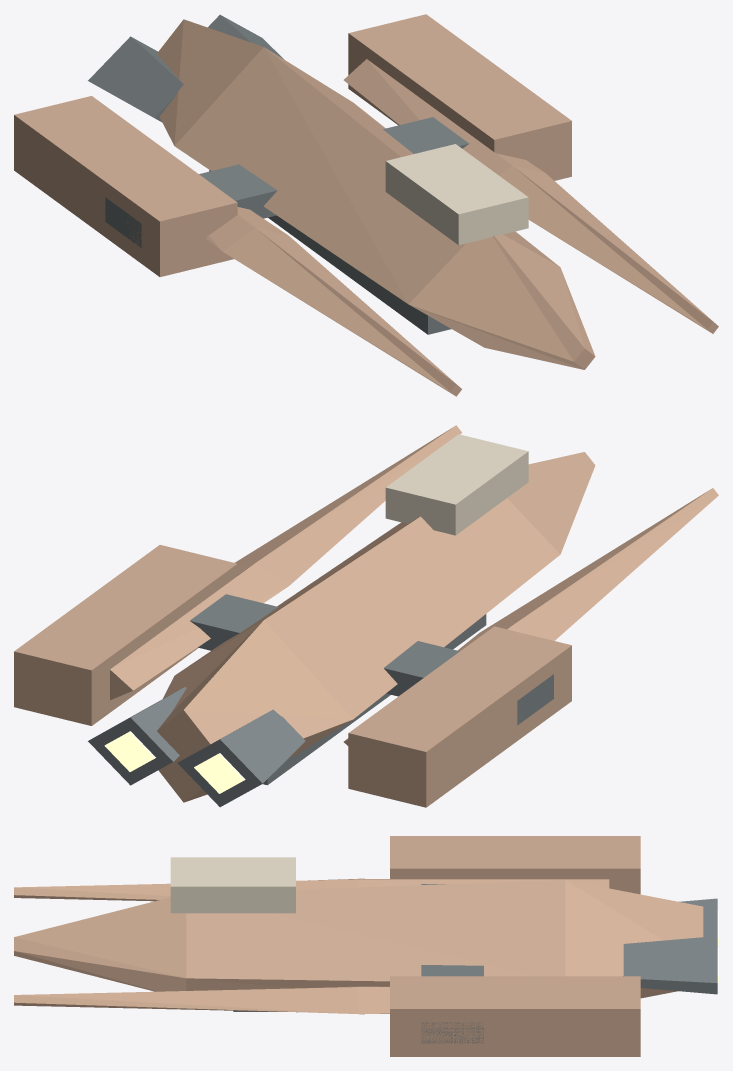
3 renders of one model, top to bottom at view 1: azimuth 30°, elevation 25°; view 2: azimuth 150°, elevation 25°; view 3: azimuth 270°, elevation 25°, orthographic. The views are drawn at different scales.
Bounding box in the file's own units: 2.48 × 0.9434 × 4.27.
